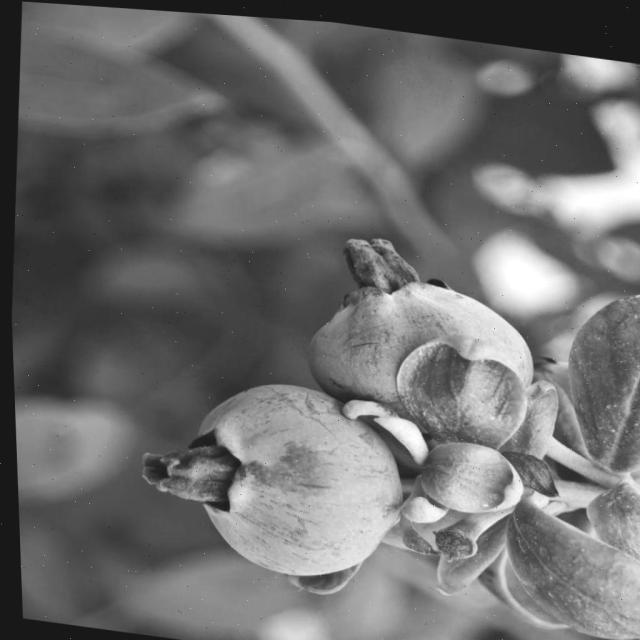RipeBlueBerry: (164, 363, 416, 588), (294, 246, 544, 414)
